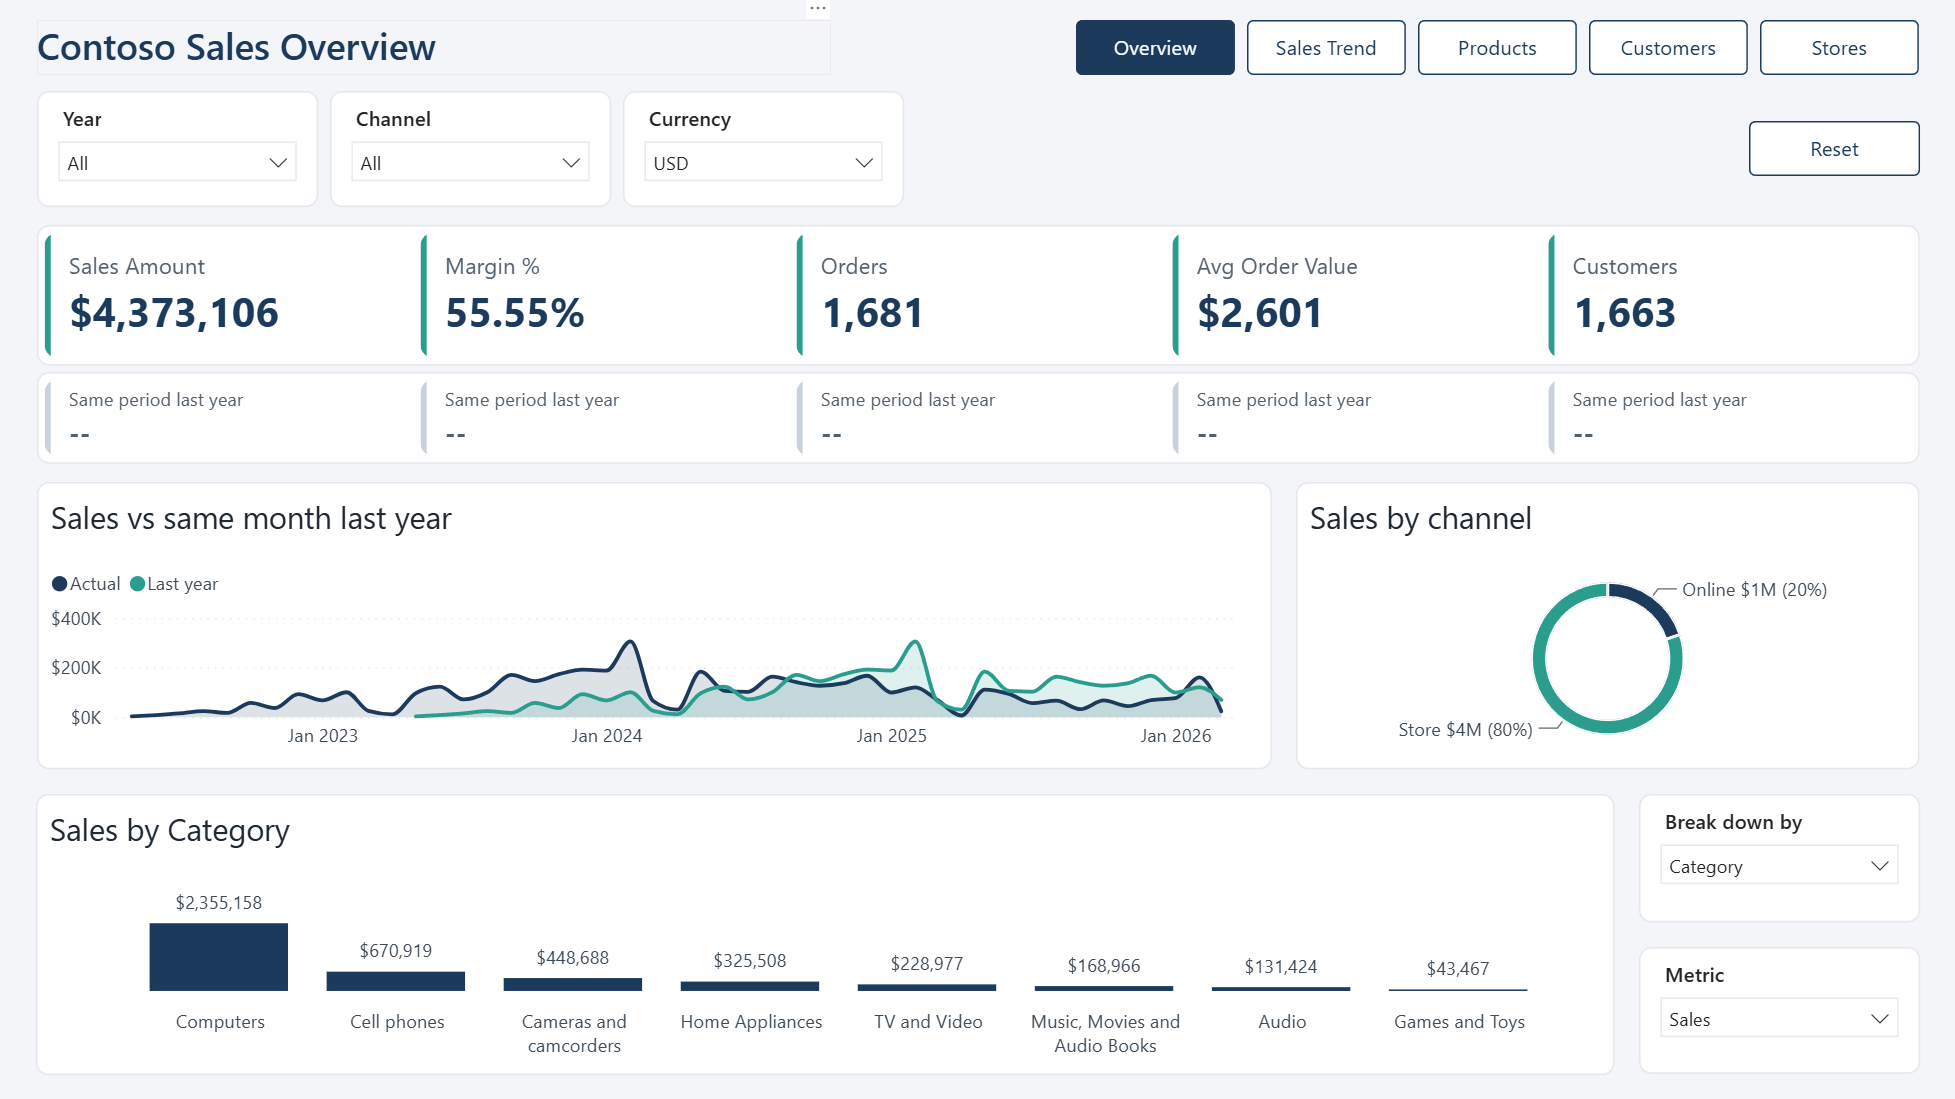

The page's visual inventory and layout, read from the dashboard file:
{"tool":"powerbi","page":{"name":"Overview","canvas":[1280,720],"ordinal":0},"visuals":[{"type":"textbox","box":[24,14,520,36],"z":0},{"type":"actionButton","box":[704,14,104,36],"z":1000},{"type":"actionButton","box":[816,14,104,36],"z":2000},{"type":"actionButton","box":[928,14,104,36],"z":3000},{"type":"actionButton","box":[1040,14,104,36],"z":4000},{"type":"actionButton","box":[1152,14,104,36],"z":5000},{"type":"slicer","fields":{"Values":["Date.Year"]},"box":[24,60,184,76],"z":6000},{"type":"actionButton","box":[1144.4,80,112,36],"z":7000},{"type":"slicer","fields":{"Values":["Sales.Channel"]},"box":[216,60,184,76],"z":8000},{"type":"slicer","fields":{"Values":["Breakdown.Breakdown"]},"box":[1072.3,519.9,183.9,83.7],"z":9000},{"type":"slicer","fields":{"Values":["Metric.Metric"]},"box":[1072.3,620.2,183.9,82.9],"z":10000},{"type":"cardVisual","fields":{"Data":["_Measures.Sales Amount","_Measures.Margin %","_Measures.Orders","_Measures.Avg Order Value","_Measures.Customers"]},"box":[24,148,1232,92],"z":11000},{"type":"cardVisual","fields":{"Data":["_Measures.Sales Amount","_Measures.Margin %","_Measures.Orders","_Measures.Avg Order Value","_Measures.Customers"]},"box":[24,244,1232,60],"z":12000},{"type":"lineChart","title":"Sales vs same month last year","fields":{"Category":["Date.Month Start"],"Series":["Time Calc.Period"],"Y":["_Measures.Sales Amount"]},"box":[24,316,808,188],"z":13000},{"type":"donutChart","title":"Sales by channel","fields":{"Category":["Sales.Channel"],"Y":["_Measures.Sales Amount"]},"box":[848,316,408,188],"z":14000},{"type":"clusteredColumnChart","fields":{"Category":["Product.CategoryName"],"Y":["_Measures.Sales Amount"]},"box":[23.8,519.9,1033.4,183.9],"z":15000},{"type":"slicer","fields":{"Values":["Currency.Currency"]},"box":[408,60,184,76],"z":16000}]}

Visuals, with their boxes in screenshot pixels (x1, y1, x2, y2), scaled from the page's 1280x720 canvas onto the 1955x1099 screenshot:
textbox: (37, 21, 831, 76)
actionButton: (1075, 21, 1234, 76)
actionButton: (1246, 21, 1405, 76)
actionButton: (1417, 21, 1576, 76)
actionButton: (1588, 21, 1747, 76)
actionButton: (1760, 21, 1918, 76)
slicer - Date.Year: (37, 92, 318, 208)
actionButton: (1748, 122, 1919, 177)
slicer - Sales.Channel: (330, 92, 611, 208)
slicer - Breakdown.Breakdown: (1638, 794, 1919, 921)
slicer - Metric.Metric: (1638, 947, 1919, 1073)
cardVisual - _Measures.Sales Amount x _Measures.Margin %: (37, 226, 1918, 366)
cardVisual - _Measures.Sales Amount x _Measures.Margin %: (37, 372, 1918, 464)
"Sales vs same month last year" lineChart: (37, 482, 1271, 769)
"Sales by channel" donutChart: (1295, 482, 1918, 769)
clusteredColumnChart - Product.CategoryName x _Measures.Sales Amount: (36, 794, 1615, 1074)
slicer - Currency.Currency: (623, 92, 904, 208)
